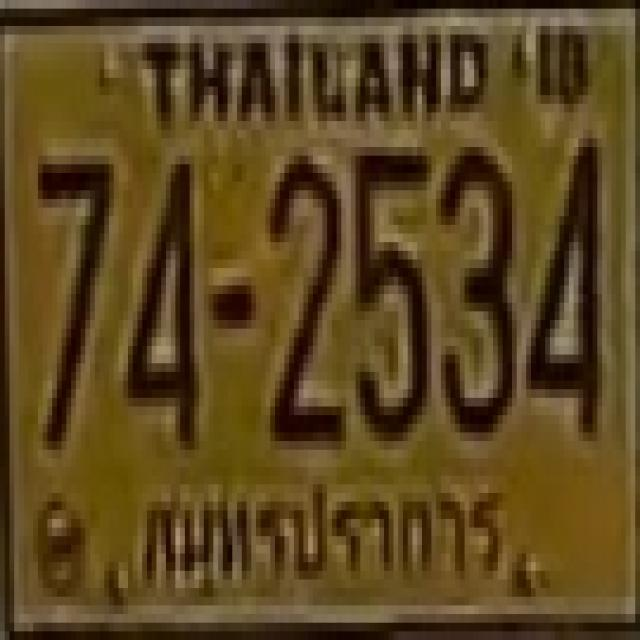2: (266, 151, 336, 437)
3: (436, 138, 512, 424)
4: (526, 130, 598, 432), (124, 156, 194, 441)
5: (351, 138, 426, 432)
7: (36, 152, 111, 446)
SPK: (136, 480, 514, 600)
